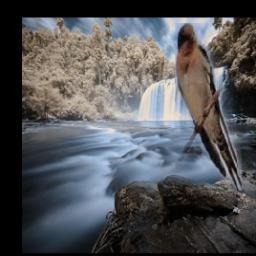Swallow: (175, 23, 242, 191)
